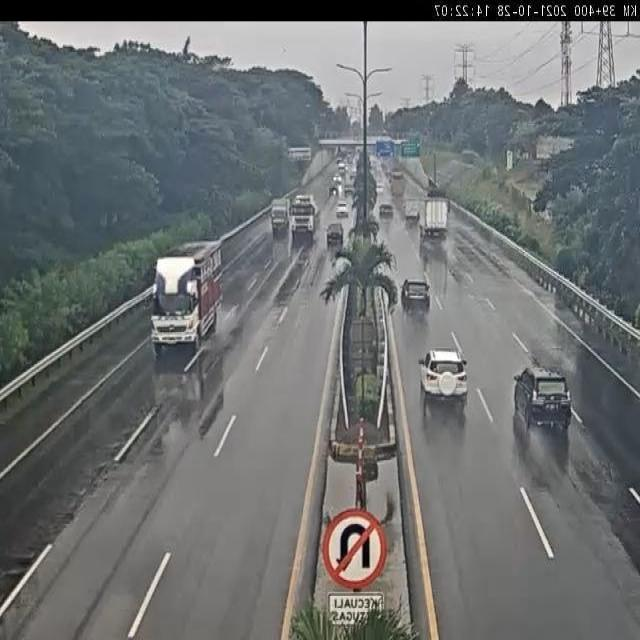Bus: (390, 170, 406, 196)
Car: (512, 365, 574, 433), (417, 349, 469, 406), (401, 278, 431, 308), (335, 200, 349, 219), (378, 202, 394, 215), (328, 185, 338, 198), (344, 182, 354, 195), (332, 173, 342, 184), (376, 184, 385, 195)
Truck: (148, 237, 225, 351), (288, 195, 319, 240), (417, 197, 450, 239), (268, 197, 290, 234), (403, 196, 420, 223)
